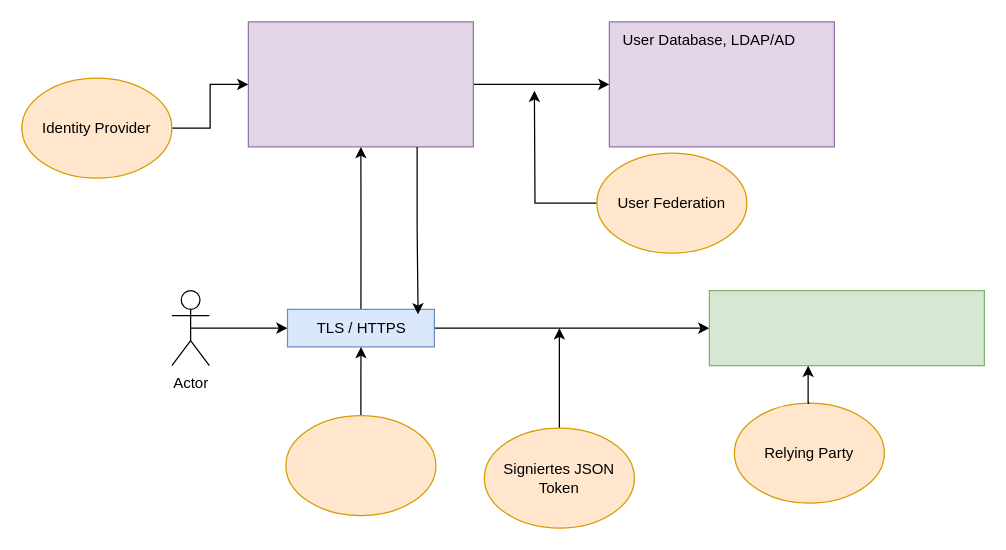
The diagram is 1006 pixels wide and 550 high, and some of its shapes have lost their labels. Each missing label, with the box of its shape:
Pflicht durch RFC-Standard: (285, 414, 436, 516)
Server-Application: (708, 289, 984, 366)
Trusted Authenticator: (247, 21, 473, 147)
